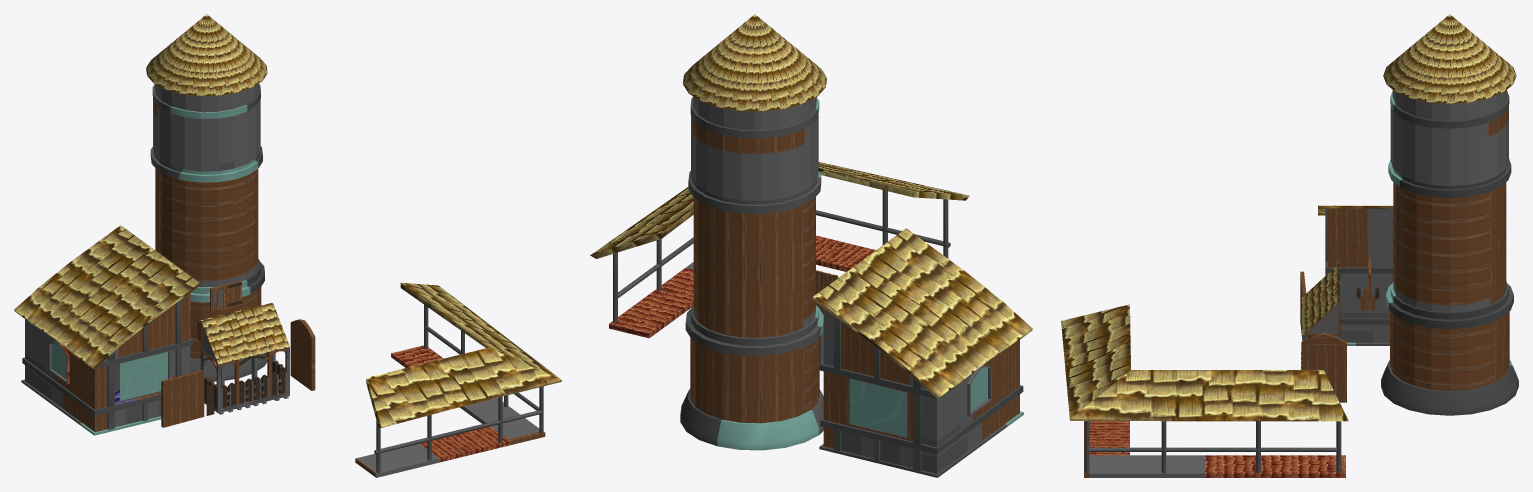
The model's file is SM_Add_ons.fbx.
3 renders of one model, left to right at view 1: azimuth 30°, elevation 25°; view 2: azimuth 150°, elevation 25°; view 3: azimuth 270°, elevation 25°, orthographic. The views are drawn at different scales.
Visible parts, largest first — view 1: SM_Side_house_Add_on, SM_Mill_Body, SM_House_Level_02_Terrace_Ver_01_Roof, SM_Mill_Roof, SM_House_Level_02_Terrace_Ver_01_FloorBoards, SM_House_level_02_terrace_ver_02, SM_House_level_02_terrace_ver_02_End_R, SM_Level_02_door, SM_House_level_02_terrace_ver_02_End_L, SM_Door_01, SM_Mill_Middle_Ring, SM_Mill_Top_Ring (+3 smaller); view 2: SM_Side_house_Add_on, SM_Mill_Body, SM_Mill_Roof, SM_House_Level_02_Terrace_Ver_01_Roof, SM_House_Level_02_Terrace_Ver_01_FloorBoards, SM_Mill_Base, SM_Mill_Bottom_Ring, SM_Mill_Middle_Ring, SM_Mill_Top_Ring, polySurface45, polySurface49; view 3: SM_Mill_Body, SM_House_Level_02_Terrace_Ver_01_Roof, SM_Side_house_Add_on, SM_Mill_Roof, SM_House_Level_02_Terrace_Ver_01_FloorBoards, SM_Mill_Base, SM_Mill_Bottom_Ring, SM_Door_01, SM_Mill_Middle_Ring, polySurface49, SM_Mill_Top_Ring, SM_House_level_02_terrace_ver_02_End_L (+2 smaller).
Part boxes in pixels (x1=…): SM_Side_house_Add_on: x1=14, y1=225, x2=200, y2=435; SM_Mill_Body: x1=153, y1=83, x2=261, y2=358; SM_House_Level_02_Terrace_Ver_01_Roof: x1=366, y1=282, x2=561, y2=427; SM_Mill_Roof: x1=146, y1=14, x2=267, y2=96; SM_House_Level_02_Terrace_Ver_01_FloorBoards: x1=355, y1=345, x2=545, y2=477; SM_House_level_02_terrace_ver_02: x1=219, y1=307, x2=271, y2=410; SM_House_level_02_terrace_ver_02_End_R: x1=200, y1=316, x2=236, y2=414; SM_Level_02_door: x1=161, y1=370, x2=204, y2=427; SM_House_level_02_terrace_ver_02_End_L: x1=254, y1=302, x2=289, y2=400; SM_Door_01: x1=290, y1=319, x2=315, y2=390; SM_Mill_Middle_Ring: x1=150, y1=146, x2=262, y2=182; SM_Mill_Top_Ring: x1=152, y1=84, x2=260, y2=118; SM_Side_house_Add_on: x1=811, y1=228, x2=1032, y2=477; SM_Mill_Body: x1=690, y1=97, x2=819, y2=423; SM_Mill_Roof: x1=683, y1=14, x2=826, y2=111; SM_House_Level_02_Terrace_Ver_01_Roof: x1=590, y1=162, x2=969, y2=258; SM_House_Level_02_Terrace_Ver_01_FloorBoards: x1=609, y1=235, x2=875, y2=338; SM_Mill_Base: x1=680, y1=389, x2=823, y2=450; SM_Mill_Bottom_Ring: x1=685, y1=305, x2=823, y2=356; SM_Mill_Middle_Ring: x1=688, y1=171, x2=821, y2=213; SM_Mill_Top_Ring: x1=690, y1=97, x2=819, y2=138; polySurface45: x1=816, y1=210, x2=950, y2=247; polySurface49: x1=617, y1=237, x2=693, y2=298; SM_Mill_Body: x1=1390, y1=90, x2=1509, y2=390; SM_House_Level_02_Terrace_Ver_01_Roof: x1=1061, y1=304, x2=1348, y2=421; SM_Side_house_Add_on: x1=1318, y1=205, x2=1393, y2=345; SM_Mill_Roof: x1=1383, y1=14, x2=1516, y2=103; SM_House_Level_02_Terrace_Ver_01_FloorBoards: x1=1084, y1=421, x2=1345, y2=477; SM_Mill_Base: x1=1381, y1=359, x2=1518, y2=415; SM_Mill_Bottom_Ring: x1=1386, y1=281, x2=1513, y2=328; SM_Door_01: x1=1301, y1=332, x2=1346, y2=402; SM_Mill_Middle_Ring: x1=1388, y1=159, x2=1511, y2=198; polySurface49: x1=1088, y1=447, x2=1337, y2=451; SM_Mill_Top_Ring: x1=1390, y1=91, x2=1509, y2=128; SM_House_level_02_terrace_ver_02_End_L: x1=1302, y1=292, x2=1340, y2=341.
Size of the model in its own units: 753 by 684 by 761.
